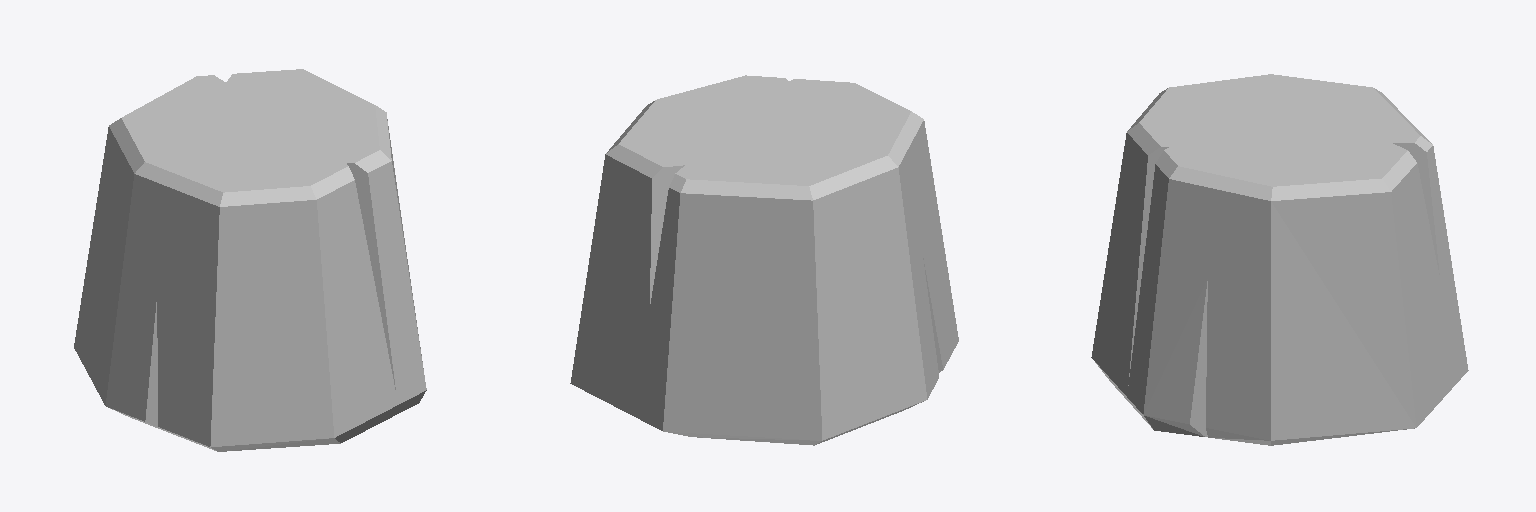
Rendered from puente_boton_roca.obj.
3 views of the same model, side by side, from view 1: azimuth 30°, elevation 25°; view 2: azimuth 150°, elevation 25°; view 3: azimuth 270°, elevation 25° (orthographic).
Parts seen in each view (by area): view 1: puente_boton_roca; view 2: puente_boton_roca; view 3: puente_boton_roca.
Boxes of the visible parts, box(x1,y1,x2,y2) form: puente_boton_roca: box(74, 69, 426, 451); puente_boton_roca: box(570, 75, 958, 445); puente_boton_roca: box(1091, 74, 1468, 445).
Bounding box in the file's own units: 17.52 × 13.55 × 18.45.